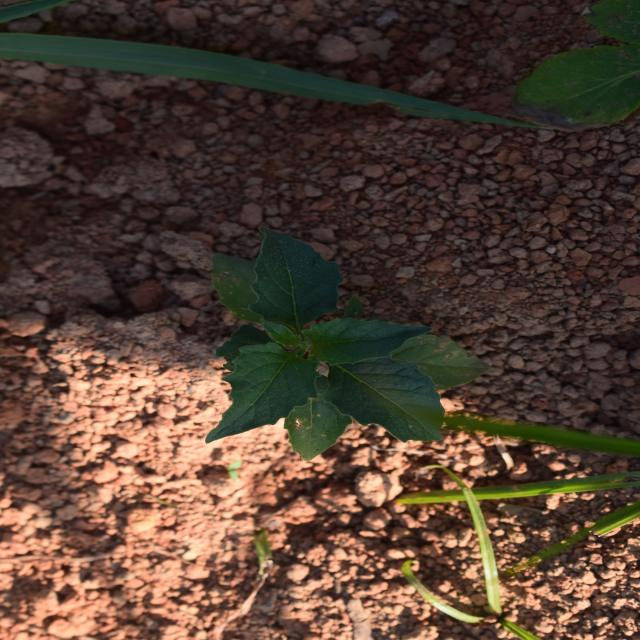Black_nightshade: (168, 185, 404, 460)
